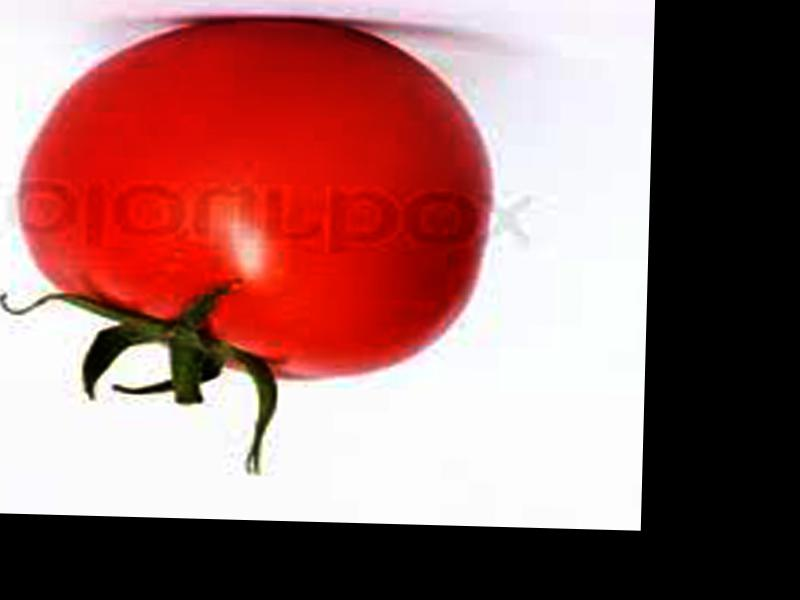Tomato: (18, 17, 494, 385)
